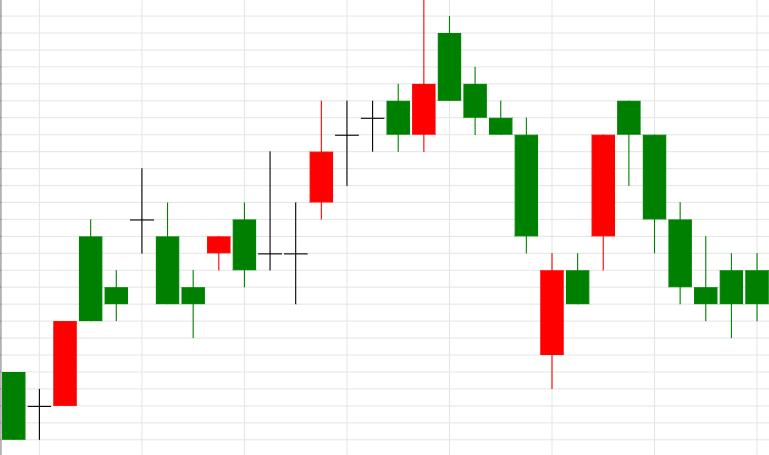shooting_star_fall: (181, 1, 436, 338)
three_black_crows_fall: (540, 101, 691, 390)
